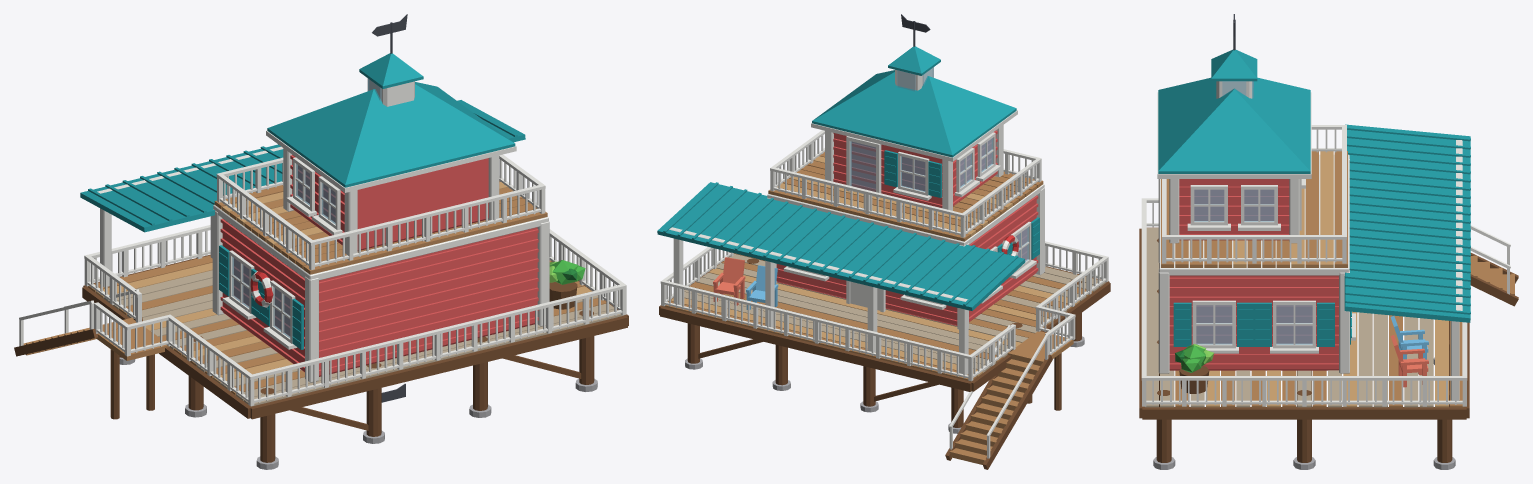
The model's file is BeachHouse.fbx.
3 views of the same model, side by side, from view 1: azimuth 30°, elevation 25°; view 2: azimuth 150°, elevation 25°; view 3: azimuth 270°, elevation 25° (orthographic). The views are drawn at different scales.
Parts seen in each view (by area): view 1: BeachHouse_White, BeachHouse_Accent, BeachHouse_Teal, BeachHouse_WoodDark, BeachHouse_Plank, BeachHouse_Driftwood, BeachHouse_WoodLight, BeachHouse_Glass, BeachHouse_Concrete, BeachHouse_DarkMetal; view 2: BeachHouse_Teal, BeachHouse_White, BeachHouse_Plank, BeachHouse_WoodDark, BeachHouse_Accent, BeachHouse_Driftwood, BeachHouse_WoodLight, BeachHouse_Glass, BeachHouse_Coral, BeachHouse_SkyBlue, BeachHouse_Concrete; view 3: BeachHouse_Teal, BeachHouse_White, BeachHouse_Accent, BeachHouse_Plank, BeachHouse_WoodDark, BeachHouse_Driftwood, BeachHouse_Glass, BeachHouse_WoodLight, BeachHouse_Coral, BeachHouse_SkyBlue, BeachHouse_Concrete, BeachHouse_Leaf.
Boxes of the visible parts, x1=… form: BeachHouse_White: x1=19, y1=78, x2=626, y2=406; BeachHouse_Accent: x1=220, y1=155, x2=538, y2=376; BeachHouse_Teal: x1=80, y1=53, x2=525, y2=349; BeachHouse_WoodDark: x1=14, y1=254, x2=628, y2=462; BeachHouse_Plank: x1=23, y1=181, x2=606, y2=395; BeachHouse_Driftwood: x1=103, y1=270, x2=623, y2=406; BeachHouse_WoodLight: x1=95, y1=182, x2=591, y2=383; BeachHouse_Glass: x1=232, y1=78, x2=381, y2=338; BeachHouse_Concrete: x1=119, y1=357, x2=597, y2=469; BeachHouse_DarkMetal: x1=372, y1=14, x2=407, y2=402; BeachHouse_Teal: x1=657, y1=46, x2=1039, y2=310; BeachHouse_White: x1=660, y1=67, x2=1108, y2=458; BeachHouse_Plank: x1=664, y1=152, x2=1092, y2=464; BeachHouse_WoodDark: x1=659, y1=253, x2=1110, y2=469; BeachHouse_Accent: x1=776, y1=130, x2=1038, y2=325; BeachHouse_Driftwood: x1=684, y1=253, x2=1105, y2=371; BeachHouse_WoodLight: x1=671, y1=156, x2=1079, y2=376; BeachHouse_Glass: x1=850, y1=67, x2=1028, y2=261; BeachHouse_Coral: x1=713, y1=257, x2=745, y2=305; BeachHouse_SkyBlue: x1=746, y1=265, x2=778, y2=309; BeachHouse_Concrete: x1=685, y1=336, x2=1084, y2=433; BeachHouse_Teal: x1=1158, y1=49, x2=1470, y2=346; BeachHouse_White: x1=1141, y1=81, x2=1510, y2=406; BeachHouse_Accent: x1=1169, y1=179, x2=1338, y2=370; BeachHouse_Plank: x1=1161, y1=151, x2=1514, y2=407; BeachHouse_WoodDark: x1=1139, y1=227, x2=1518, y2=462; BeachHouse_Driftwood: x1=1145, y1=228, x2=1433, y2=407; BeachHouse_Glass: x1=1194, y1=81, x2=1312, y2=344; BeachHouse_WoodLight: x1=1206, y1=151, x2=1448, y2=407; BeachHouse_Coral: x1=1390, y1=335, x2=1428, y2=387; BeachHouse_SkyBlue: x1=1390, y1=316, x2=1428, y2=359; BeachHouse_Concrete: x1=1153, y1=357, x2=1455, y2=469; BeachHouse_Leaf: x1=1181, y1=345, x2=1205, y2=372.
Size of the model in its own units: 47.7 by 41.69 by 37.89.
